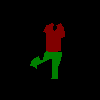fuseaux: (29, 50, 62, 78)
t-shirt: (43, 22, 64, 52)
